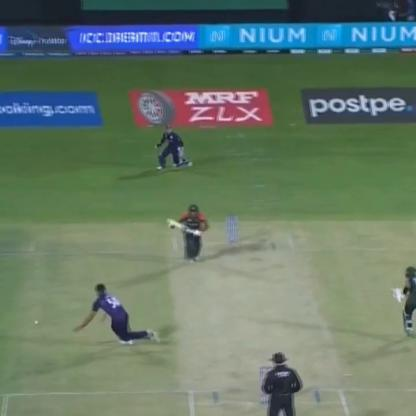ball: (29, 318, 44, 327)
pitch: (148, 219, 357, 415)
